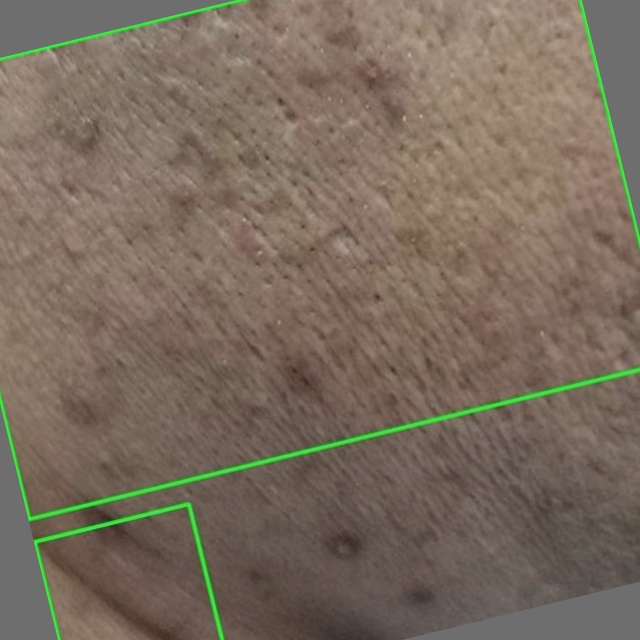Eczema: (0, 0, 639, 519), (35, 505, 222, 639)
